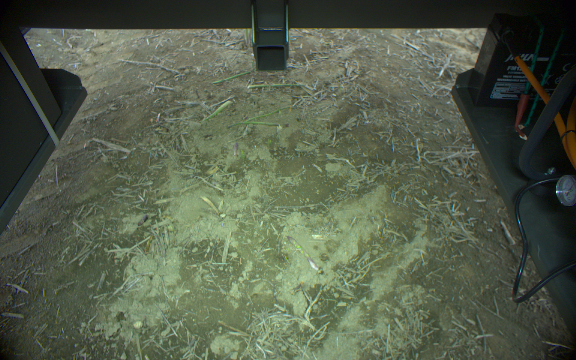aspa: (284, 233, 319, 272), (213, 68, 253, 86), (202, 100, 234, 122), (247, 79, 309, 90)
